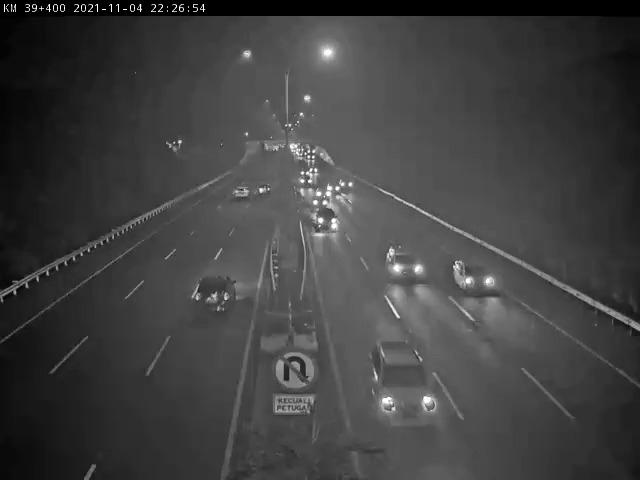car: (365, 340, 442, 428), (192, 276, 238, 314), (451, 258, 498, 295), (385, 242, 424, 284), (313, 205, 341, 234), (312, 194, 331, 213)
